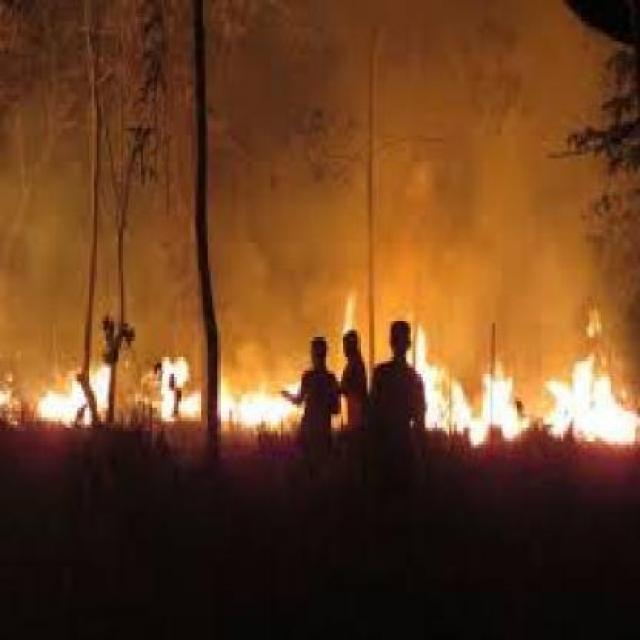Fire: (0, 333, 328, 454), (390, 334, 636, 456), (1, 342, 123, 457), (216, 348, 330, 464)
